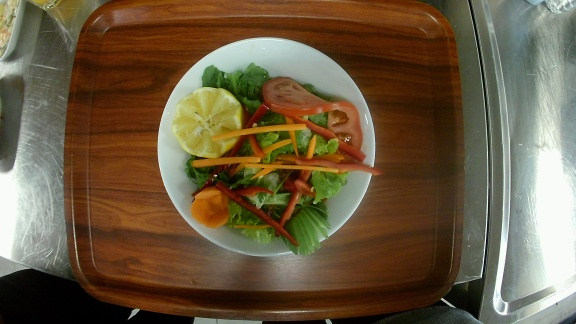salata: (157, 37, 378, 251)
